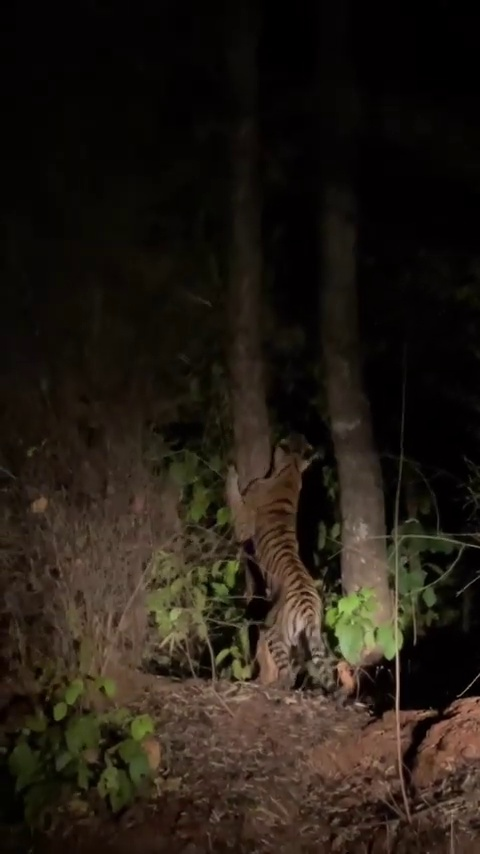Tiger: (224, 433, 368, 709)
